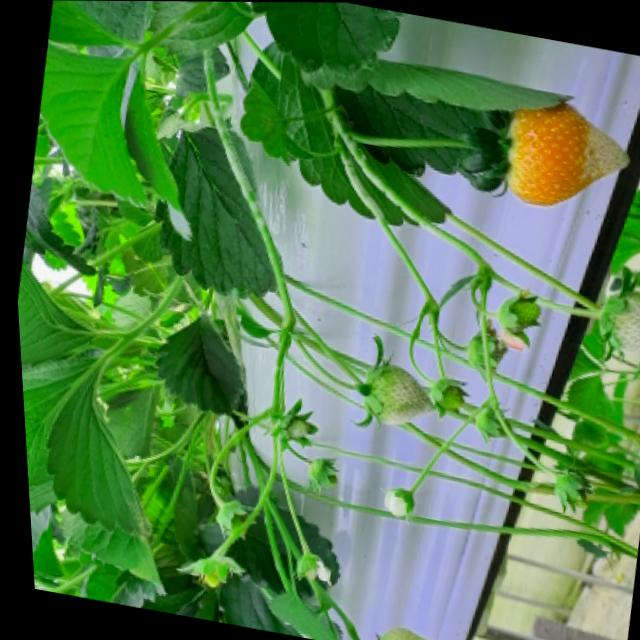Powdery Mildew Fruit: (503, 97, 630, 205), (353, 364, 435, 425), (597, 289, 640, 352)
